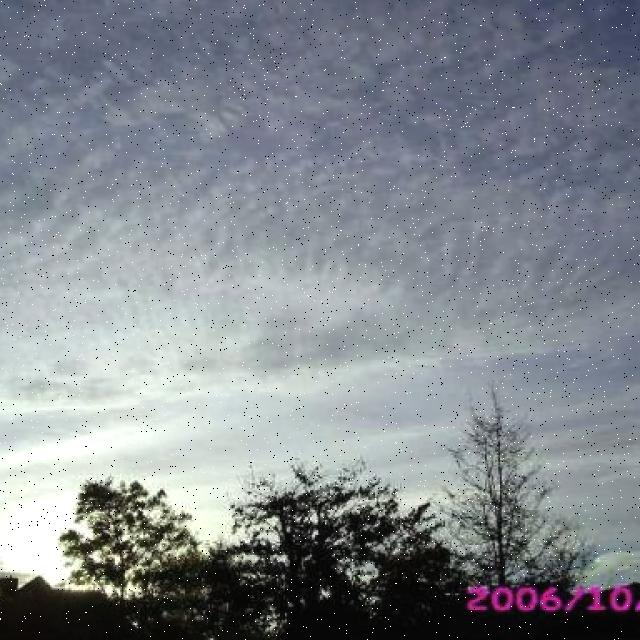Cc: (1, 5, 640, 403)
